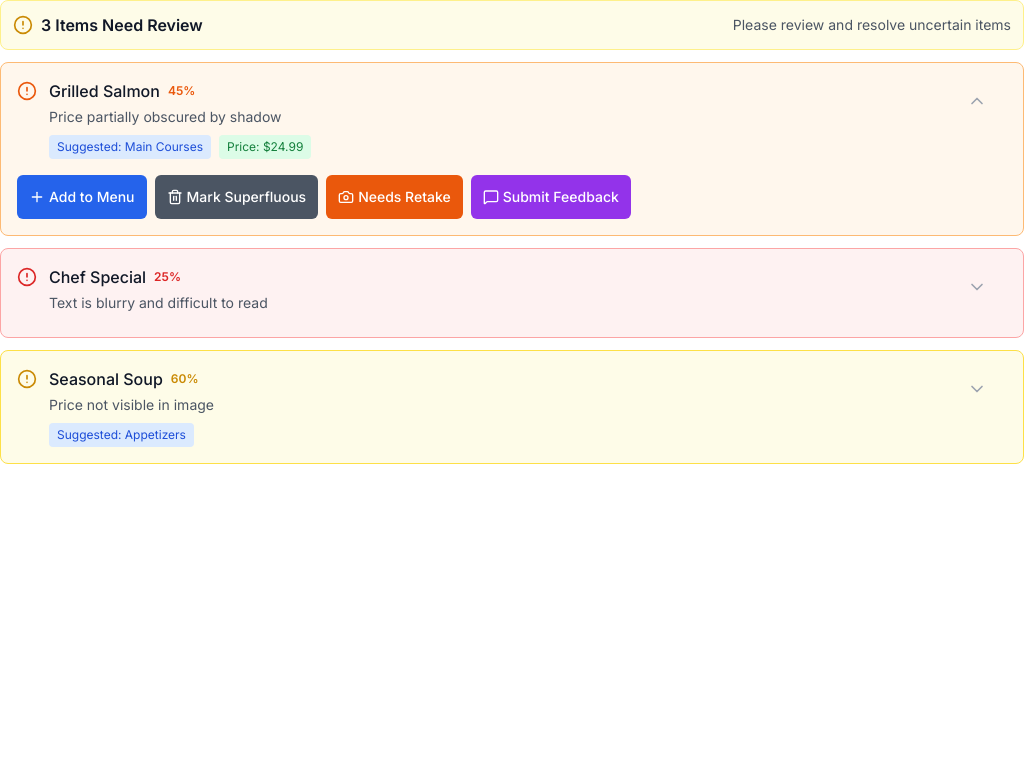
Test case: UncertainItemsPanel › Feedback Submission › should show feedback form when "Submit Feedback" is clicked
Click the button "Submit Feedback" at (551, 197), box [471,175,631,219]
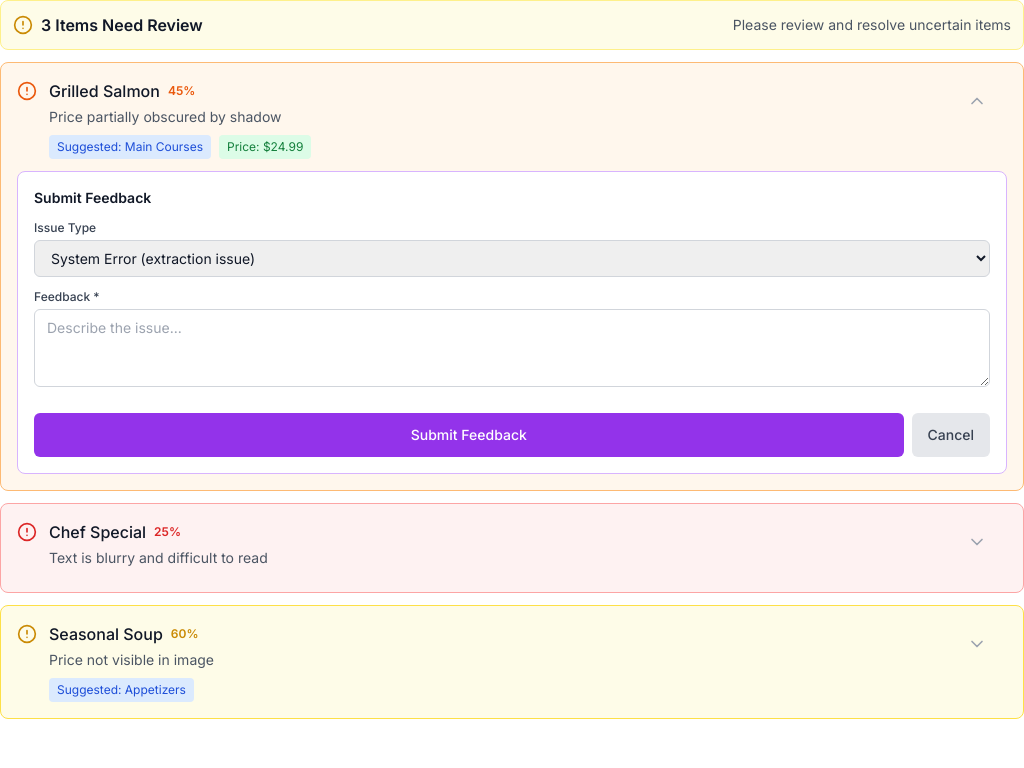
Expected: the dropdown labelled "Issue Type" is shown, [34,240,990,277]
Expected: the text box labelled "Feedback *" is shown, [34,309,990,387]
